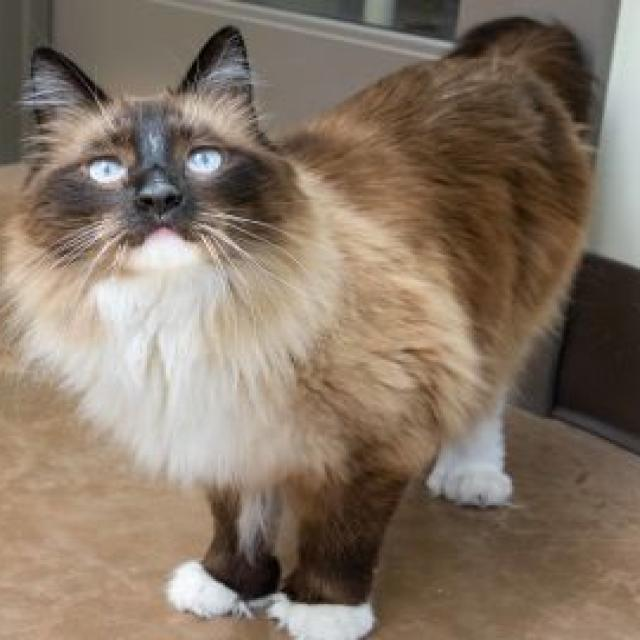Ragdoll: (0, 6, 597, 639)
